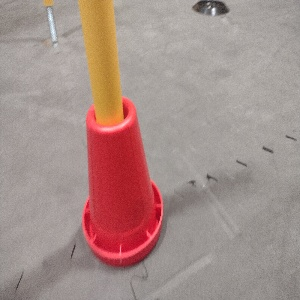Red_1: (80, 95, 164, 267)
